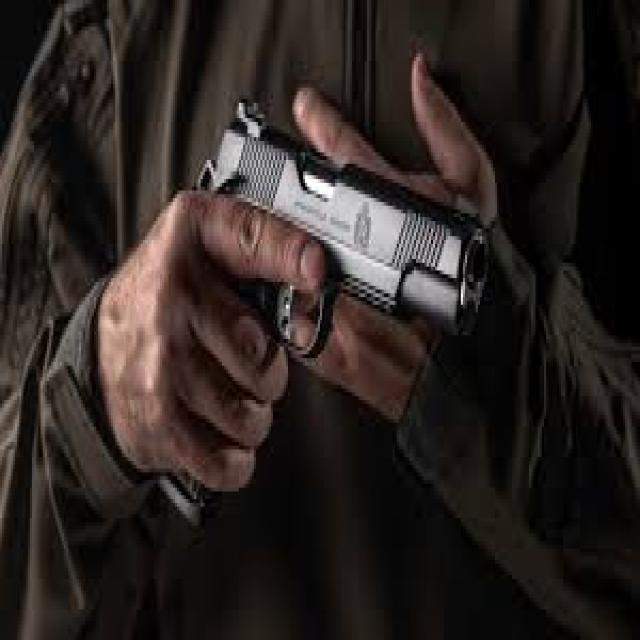weapons: (113, 103, 502, 539)
